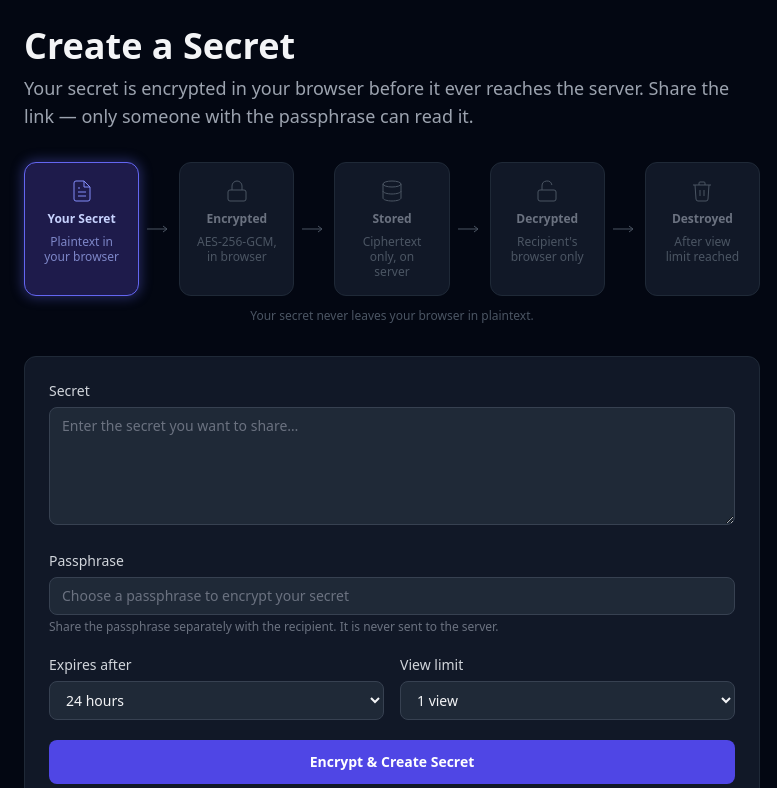
Create — validation › shows an error when passphrase is empty on submit
Type "my secret" into the text box labelled "Secret".
click(392, 466); type("my secret")  # box [49,407,735,525]
(page scrolled)
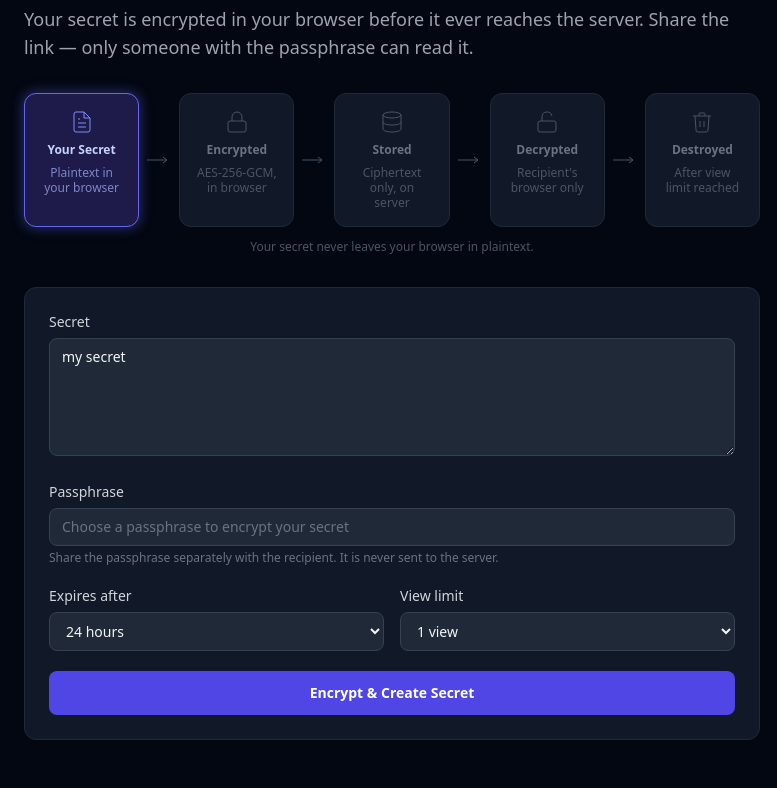
Submit the form named "Encrypt & Create Secret", box [24,287,760,740]
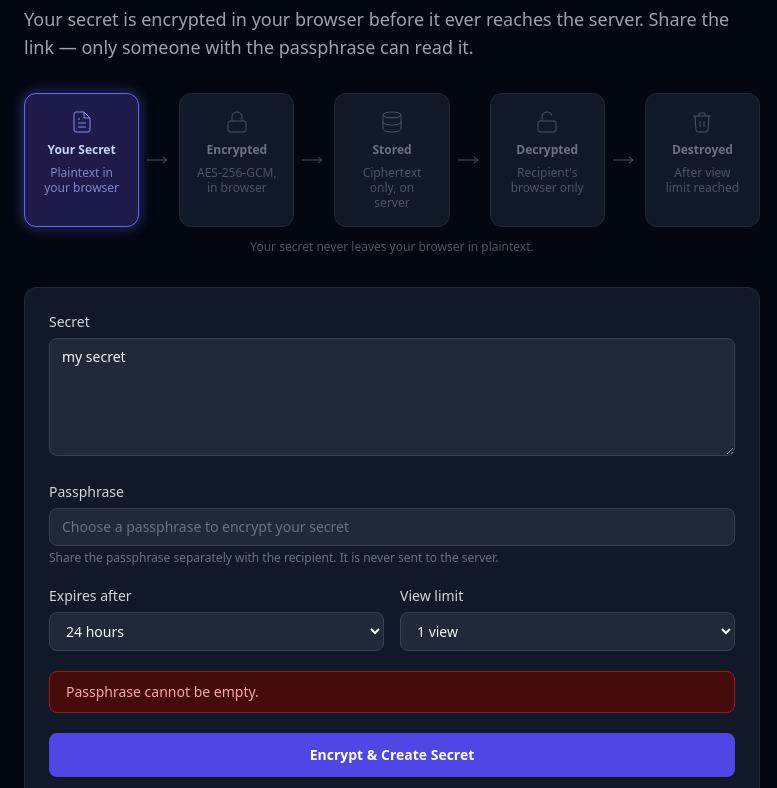
Now the message reads "Passphrase cannot be empty.", box [66,682,259,701]
